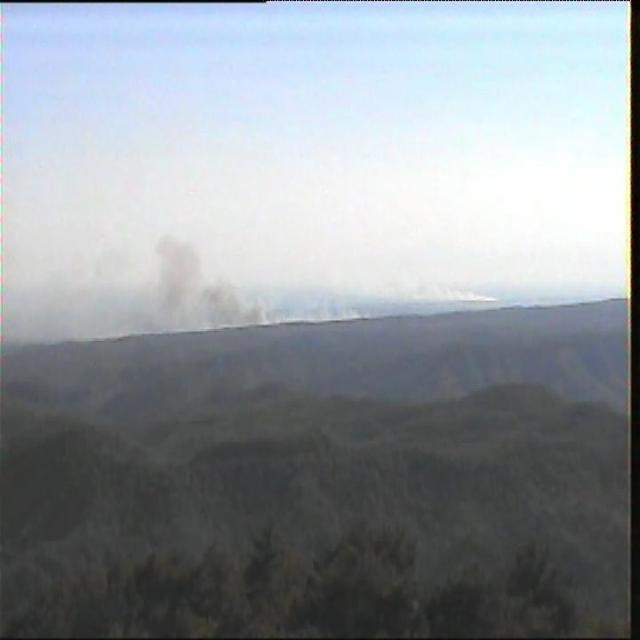Smoke: (142, 226, 276, 324)
